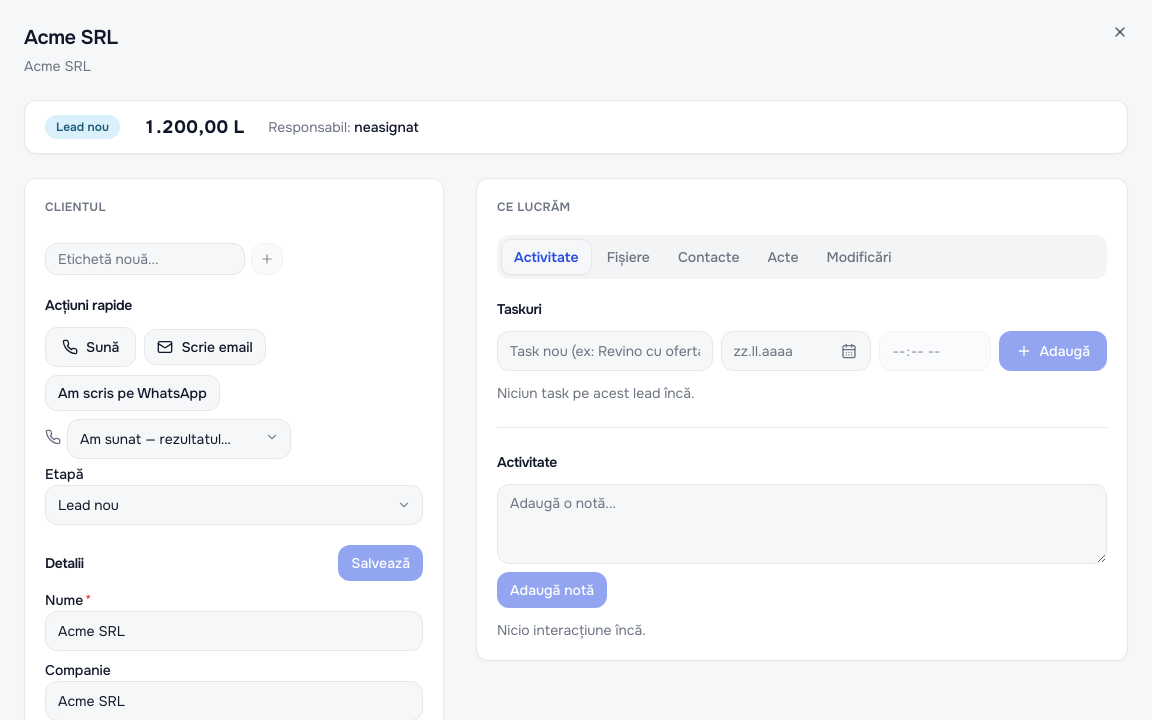
it: CRM-U04 — taskul cu oră, din fișă › [blocant] data + ora pleacă la server ca „cu oră”
Type "Sună clientul" into the field labelled "Task nou" at (605, 351), box [497,331,712,371]
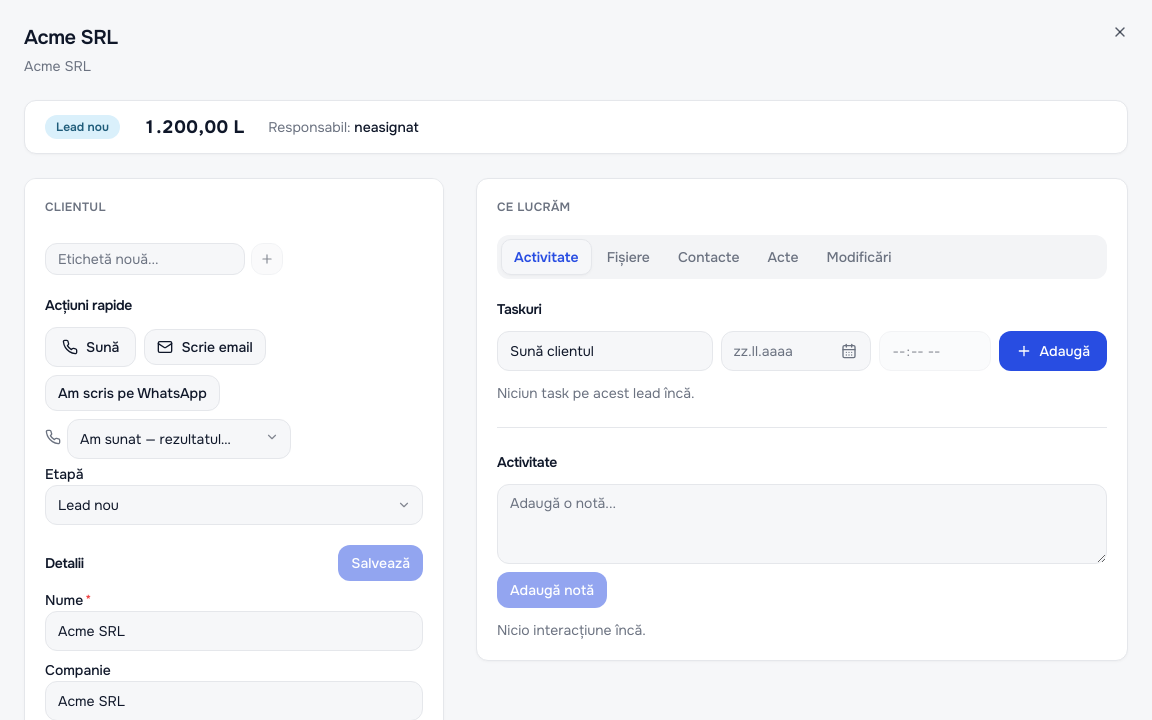
Type "2026-09-27" into the field named "Scadență" at (796, 351), box [720,331,870,371]
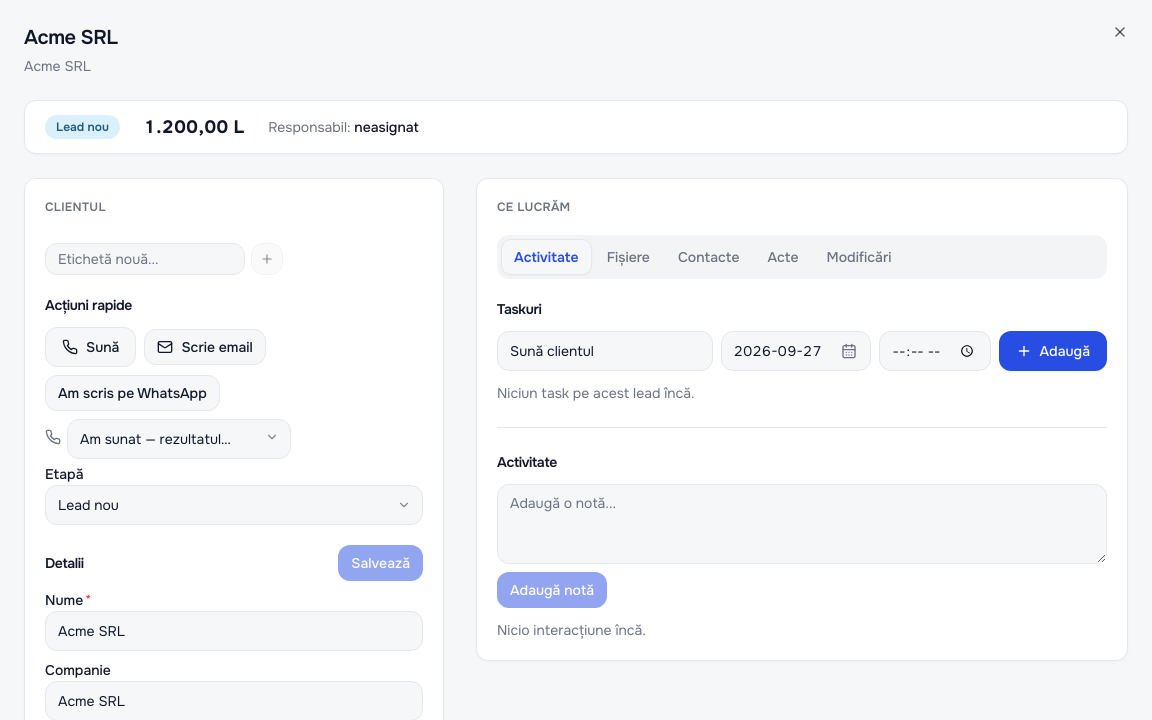
Type "14:30" into the time field named "Ora (opțional)" at (934, 351), box [878,331,990,371]
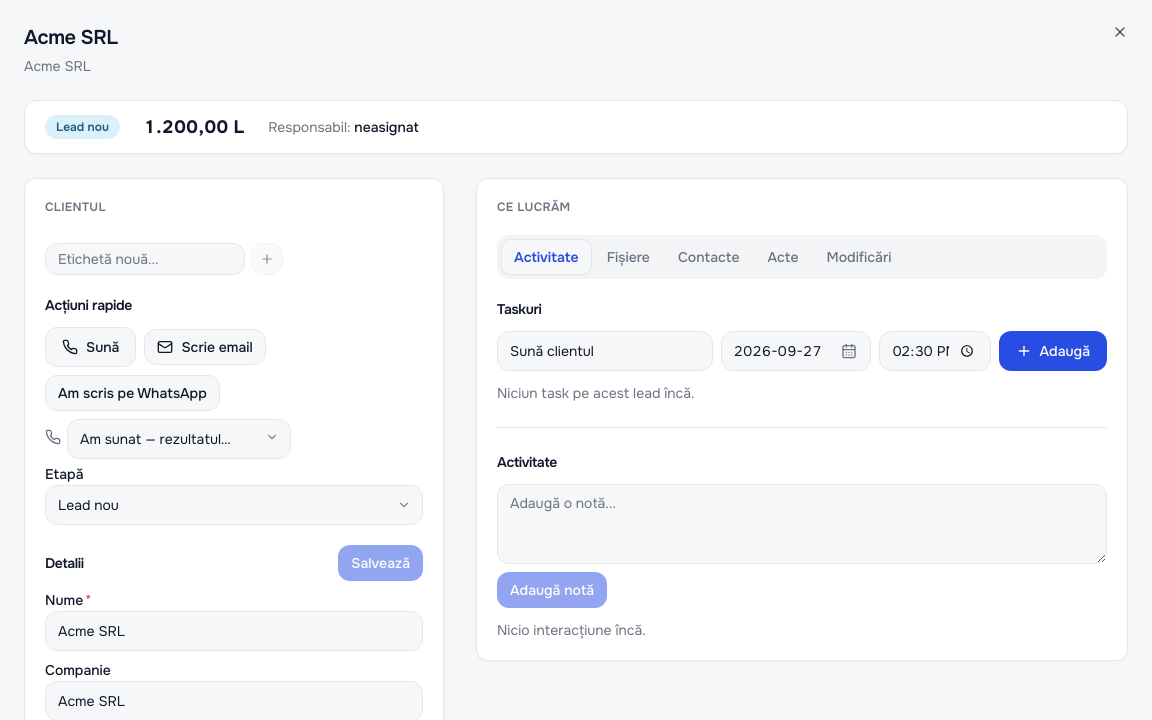
Click the button "Adaugă" at (1053, 351), box [998,331,1107,371]
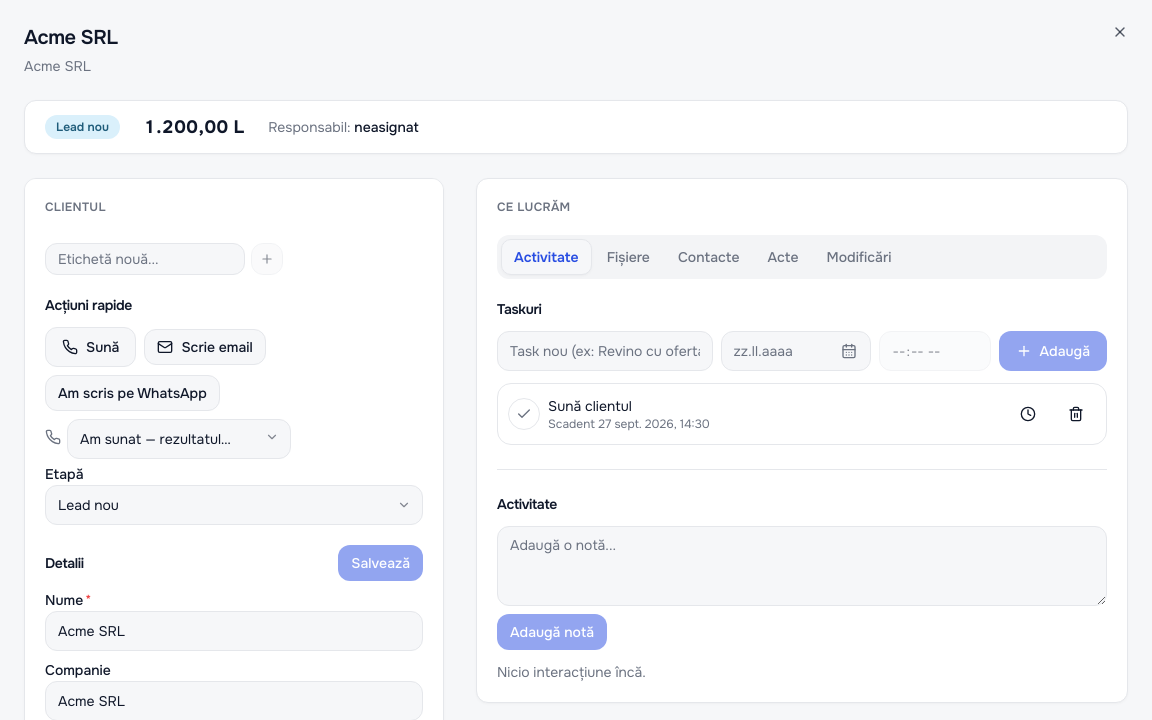
Now the text "Scadent 27 sept. 2026, 14:30" is shown, box [548,416,710,432]
